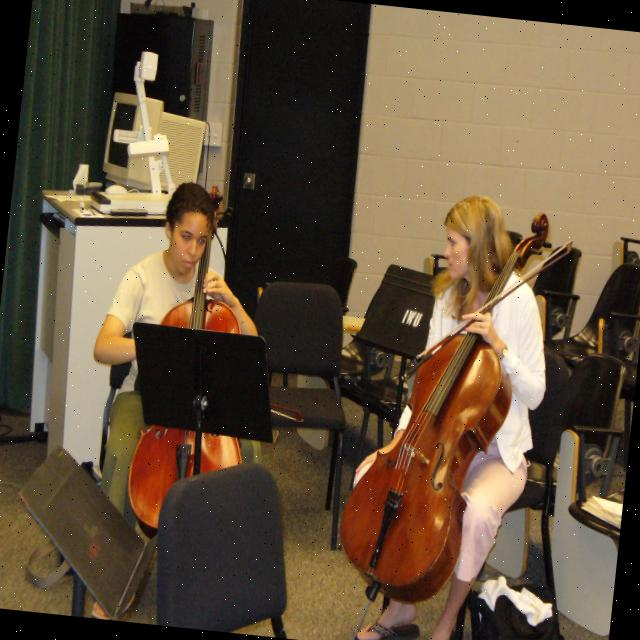cello: (326, 190, 553, 621), (117, 178, 274, 544)
